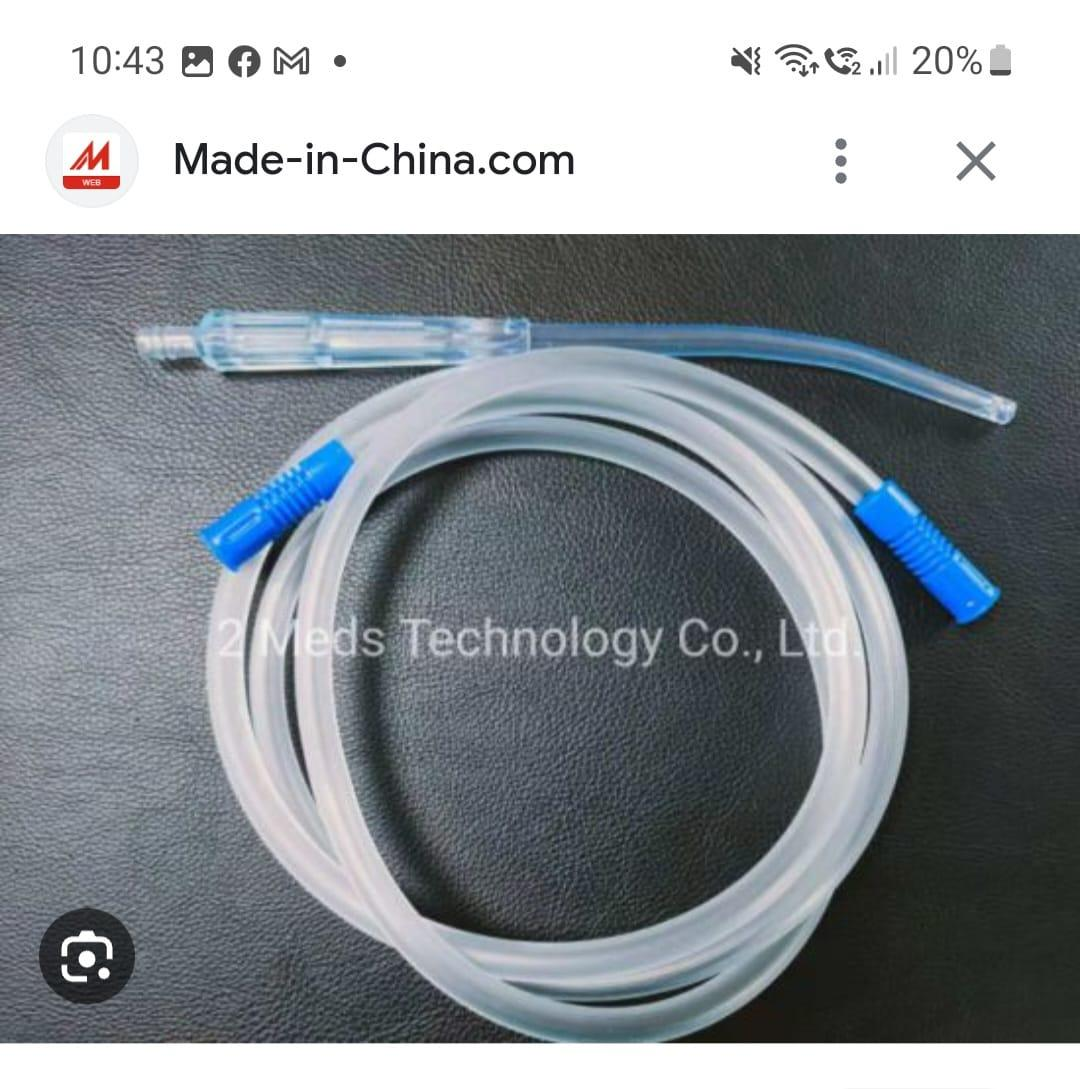Suction Tube Nozzle: (132, 295, 1022, 1040)
